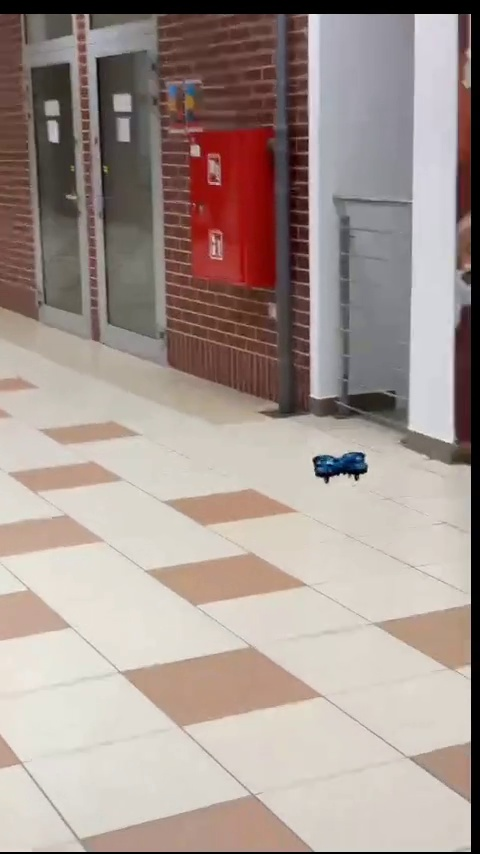drone: (310, 452, 370, 485)
